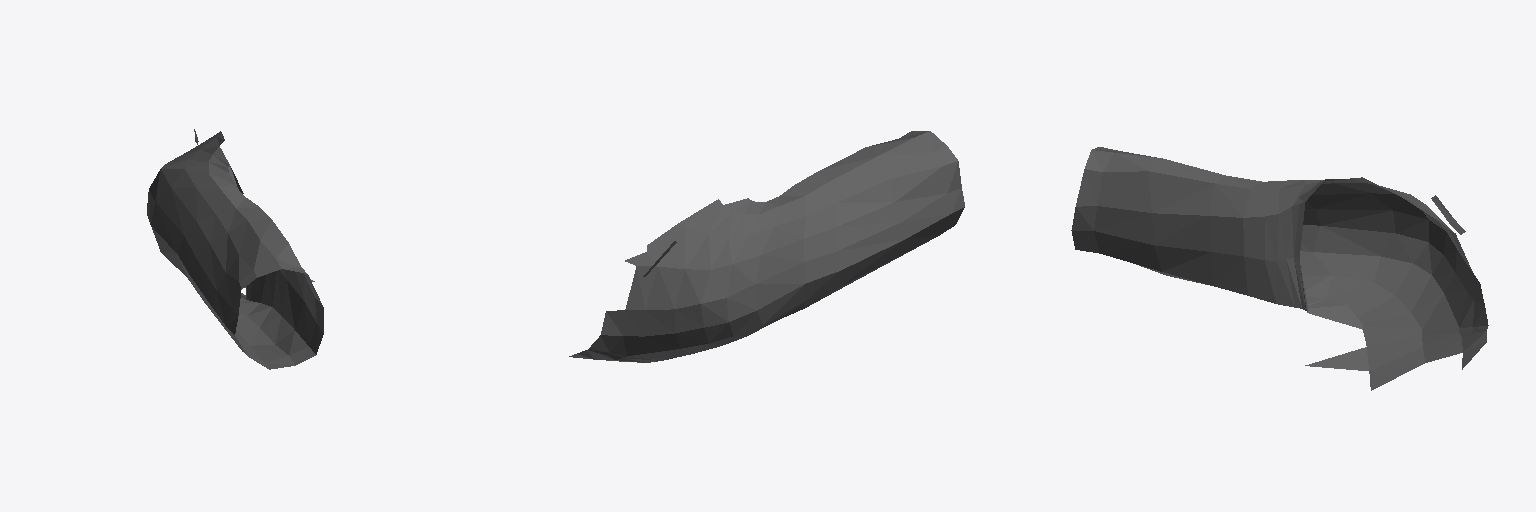
Rendered from r_upperarm.obj.
3 renders of one model, left to right at view 1: azimuth 30°, elevation 25°; view 2: azimuth 150°, elevation 25°; view 3: azimuth 270°, elevation 25°, orthographic.
Parts seen in each view (by area): view 1: zoey_color_bmp_001_zoey_color_bmp.001; view 2: zoey_color_bmp_001_zoey_color_bmp.001; view 3: zoey_color_bmp_001_zoey_color_bmp.001.
Boxes of the visible parts, x1,y1,x2,y2 form: zoey_color_bmp_001_zoey_color_bmp.001: [147, 129, 323, 369]; zoey_color_bmp_001_zoey_color_bmp.001: [569, 131, 964, 362]; zoey_color_bmp_001_zoey_color_bmp.001: [1071, 147, 1488, 390].
Bounding box in the file's own units: 8.63 × 6.36 × 14.28.